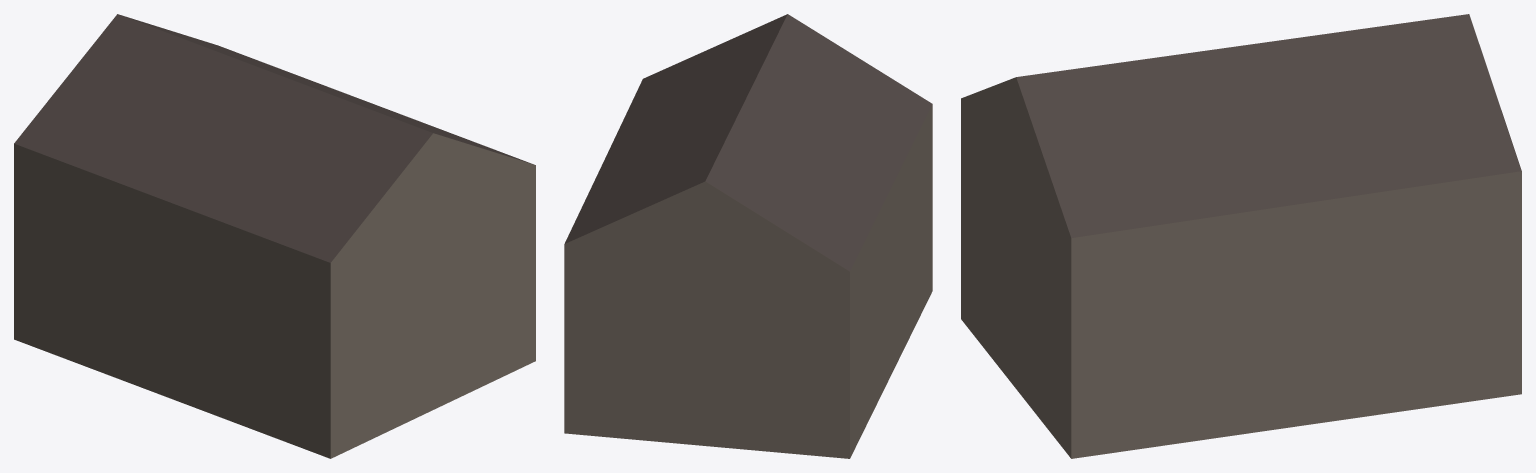
3 views of the same model, side by side, from view 1: azimuth 30°, elevation 25°; view 2: azimuth 150°, elevation 25°; view 3: azimuth 270°, elevation 25° (orthographic). The views are drawn at different scales.
Parts seen in each view (by area): view 1: HP-w1198840859; view 2: HP-w1198840859; view 3: HP-w1198840859.
Boxes of the visible parts, box(x1,y1,x2,y2) form: HP-w1198840859: box(14, 14, 535, 458); HP-w1198840859: box(564, 14, 932, 458); HP-w1198840859: box(961, 14, 1521, 458).
Bounding box in the file's own units: 11.83 × 8.48 × 13.81.
